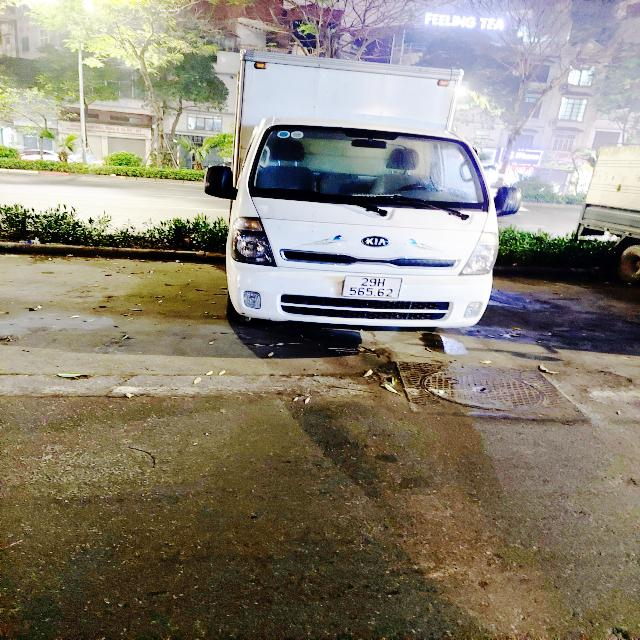license_plate: (340, 274, 408, 302)
